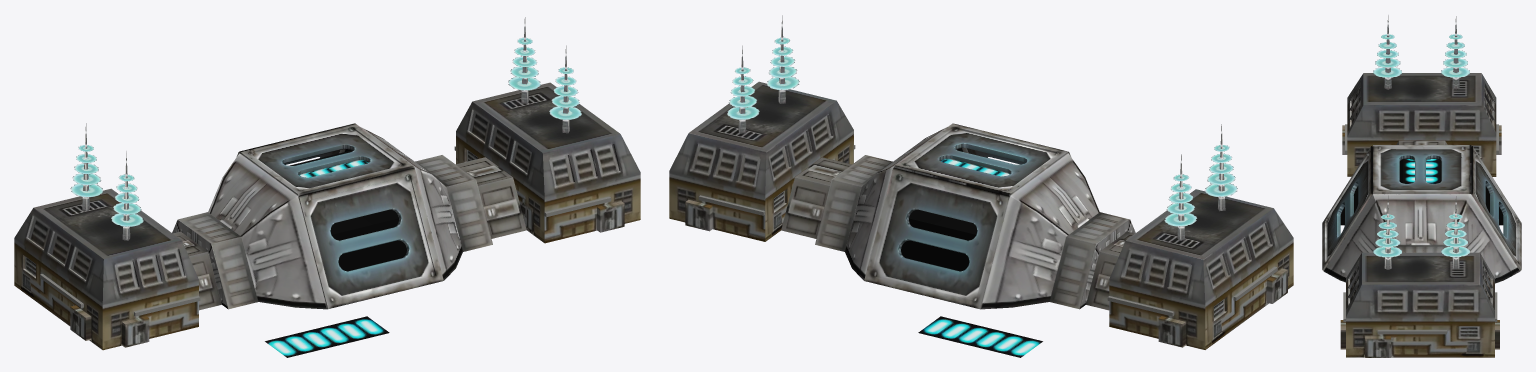
Rendered from powergenerator_cad.glb.
3 views of the same model, side by side, from view 1: azimuth 30°, elevation 25°; view 2: azimuth 150°, elevation 25°; view 3: azimuth 270°, elevation 25° (orthographic). The views are drawn at different scales.
Visible parts, largest first — view 1: PowerGenerator, LOS_PwerSpike, Coil; view 2: PowerGenerator, LOS_PwerSpike, Coil; view 3: PowerGenerator, LOS_PwerSpike, Coil.
Part boxes in pixels (x1,y1,x2,y2): PowerGenerator: (14,82,640,350); LOS_PwerSpike: (70,17,581,240); Coil: (265,150,389,357); PowerGenerator: (669,81,1293,349); LOS_PwerSpike: (727,15,1237,240); Coil: (918,159,1042,357); PowerGenerator: (1322,73,1521,357); LOS_PwerSpike: (1373,15,1469,269); Coil: (1403,159,1440,183).
Size of the model in its own units: 33.71 by 14.99 by 12.63.
3 materials, 3 textured.
